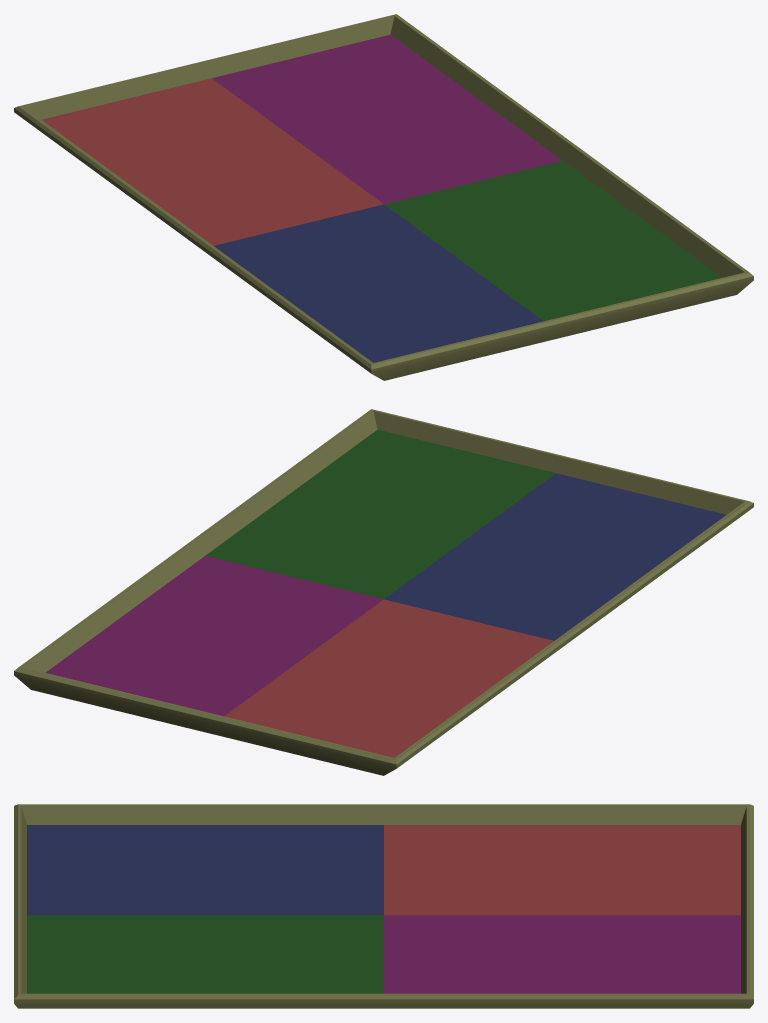
Rendered from cuadro.fbx.
The picture shows the model from 3 angles, top to bottom: view 1: azimuth 30°, elevation 25°; view 2: azimuth 150°, elevation 25°; view 3: azimuth 270°, elevation 25°; orthographic projection. The views are drawn at different scales.
Visible parts, largest first — view 1: Cube; view 2: Cube; view 3: Cube.
Part boxes in pixels (box(x1,y1,x2,y2)): Cube: box(14, 14, 753, 380); Cube: box(14, 409, 753, 775); Cube: box(14, 804, 753, 1008).
Size of the model in its own units: 207 by 9.91 by 334.
